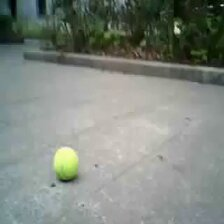tennis: (52, 147, 79, 181)
